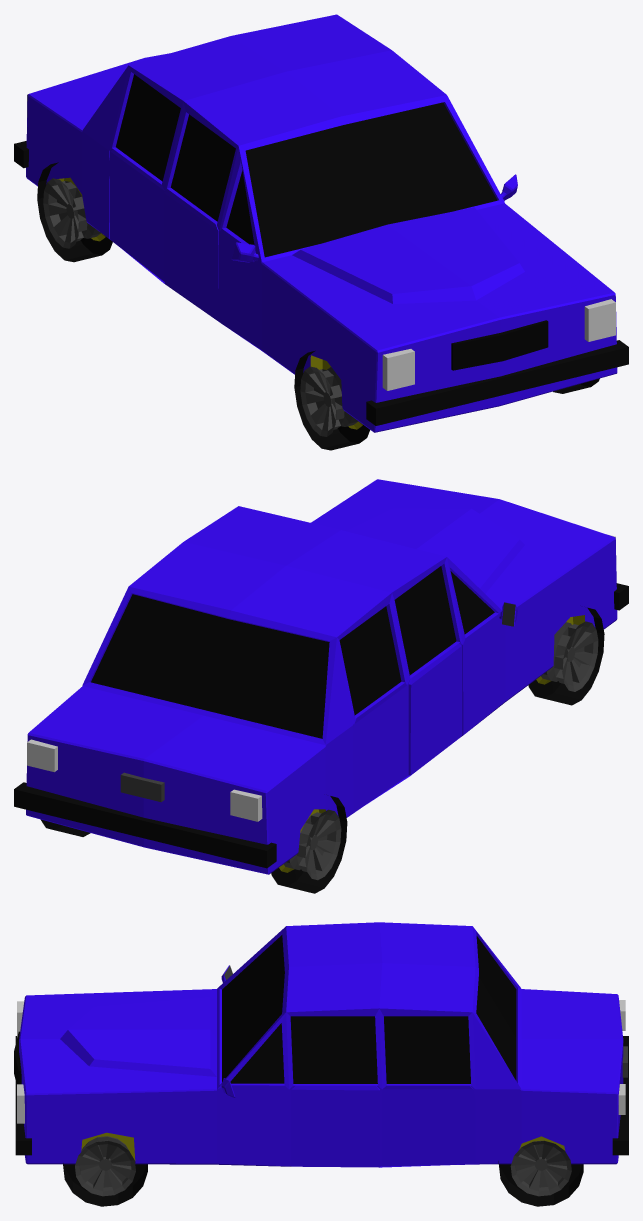
File: car_2_purple.obj
3 renders of one model, top to bottom at view 1: azimuth 30°, elevation 25°; view 2: azimuth 150°, elevation 25°; view 3: azimuth 270°, elevation 25°, orthographic. The views are drawn at different scales.
Visible parts, largest first — view 1: Cube.001; view 2: Cube.001; view 3: Cube.001.
Boxes of the visible parts, left/top/right/bottom form: Cube.001: left=14, top=14, right=628, bottom=450; Cube.001: left=14, top=479, right=628, bottom=893; Cube.001: left=14, top=922, right=628, bottom=1206.
Bounding box in the file's own units: 1.51 × 1.14 × 3.36.
